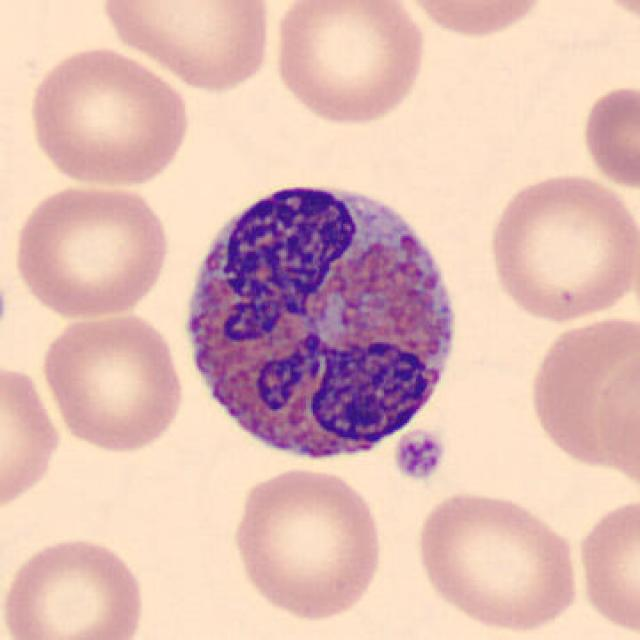Eosinophil: (171, 162, 473, 480)
Platelets: (391, 428, 448, 485)
RBC: (225, 464, 388, 624), (411, 485, 583, 635), (23, 42, 194, 190), (480, 169, 636, 326), (9, 180, 174, 322), (38, 305, 188, 457), (268, 0, 431, 129), (524, 312, 638, 476), (94, 0, 277, 93), (0, 530, 149, 640), (0, 358, 64, 518), (572, 492, 640, 638), (590, 335, 638, 501), (576, 79, 640, 194), (398, 0, 553, 41), (588, 0, 640, 30)
